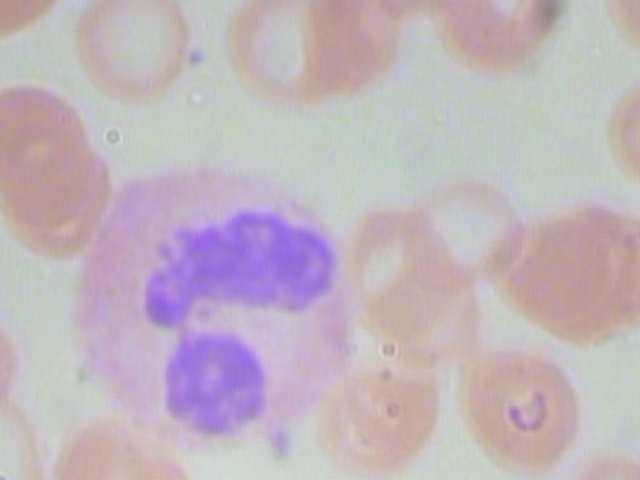RBC: (446, 332, 587, 479), (72, 0, 202, 107), (223, 0, 349, 108), (45, 419, 203, 480), (426, 0, 571, 65), (0, 385, 60, 480), (562, 439, 640, 480), (0, 0, 70, 42), (0, 305, 25, 398)
WBC: (52, 151, 355, 454)
